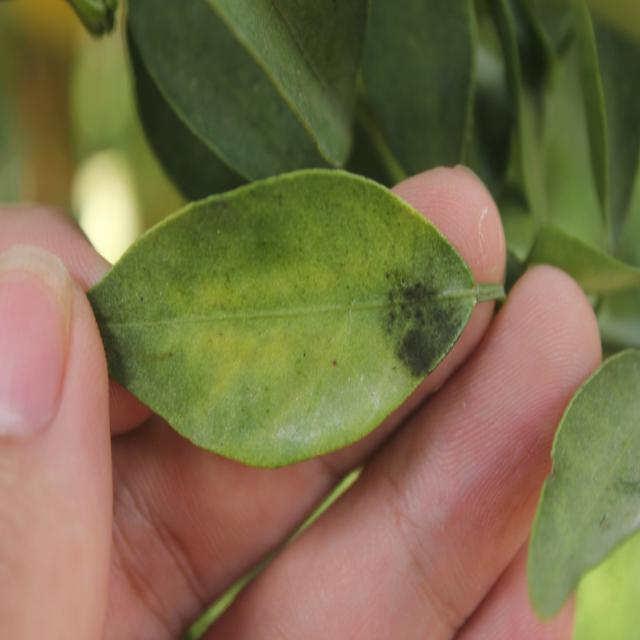blackspot: (115, 186, 473, 442)
